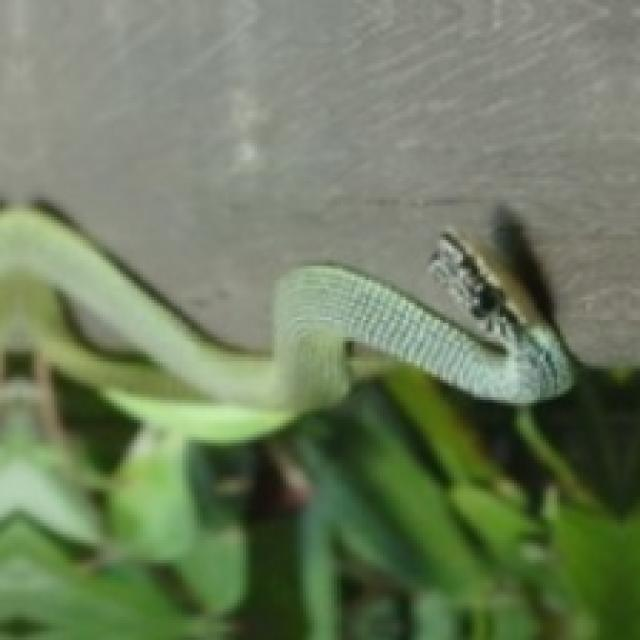paradise tree snake: (0, 206, 571, 440)
